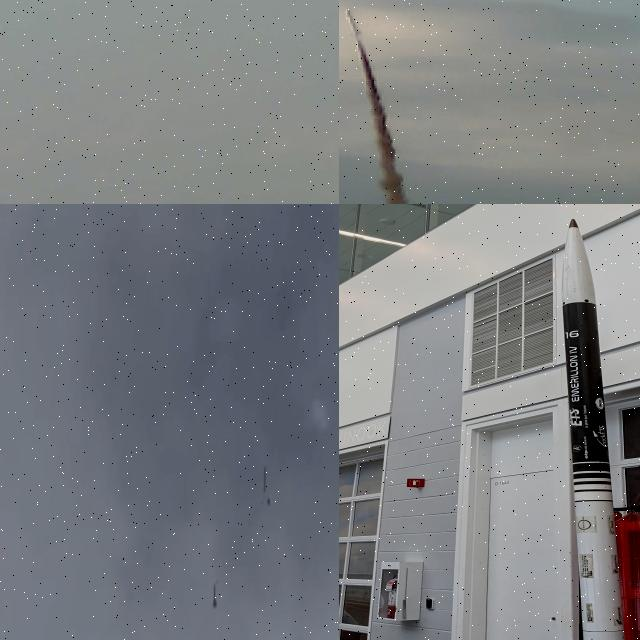Rocket: (561, 219, 625, 640), (345, 8, 364, 38), (213, 585, 217, 608)
